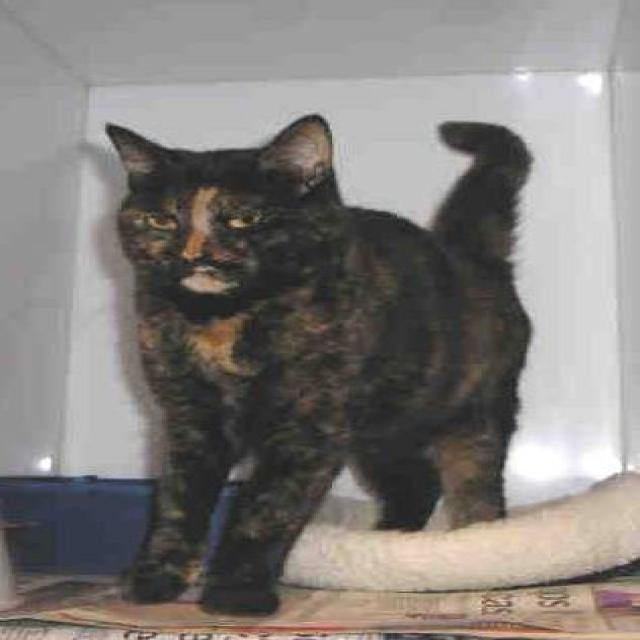cat: (103, 112, 533, 614)
